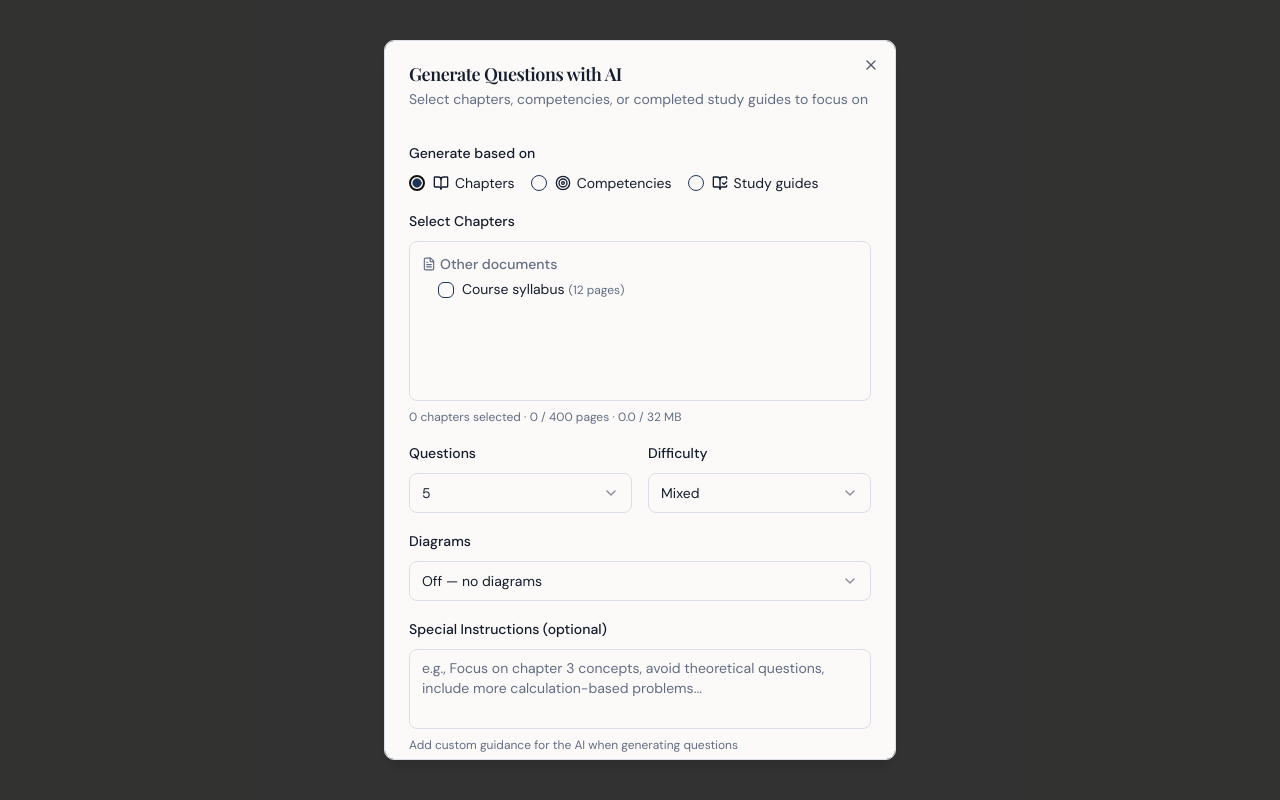
GenerateMcqDialog (#873) › lets a document alone satisfy the selection requirement
The image size is (1280, 800).
Click the checkbox named "Course syllabus" at point(446, 290), box top-left (438, 282), bottom-right (454, 298)
(page scrolled)
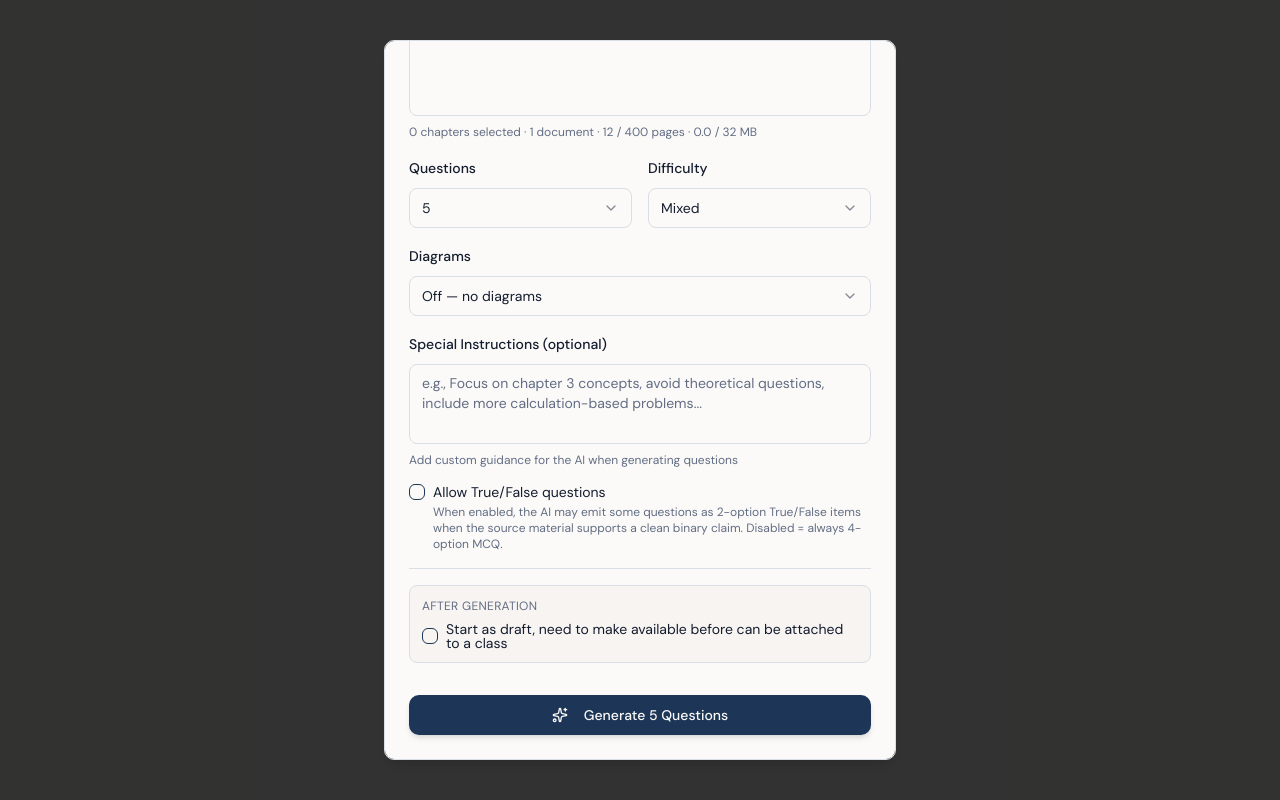
expect the button "Generate 5 Questions" is enabled: met, box top-left (409, 695), bottom-right (871, 735)
